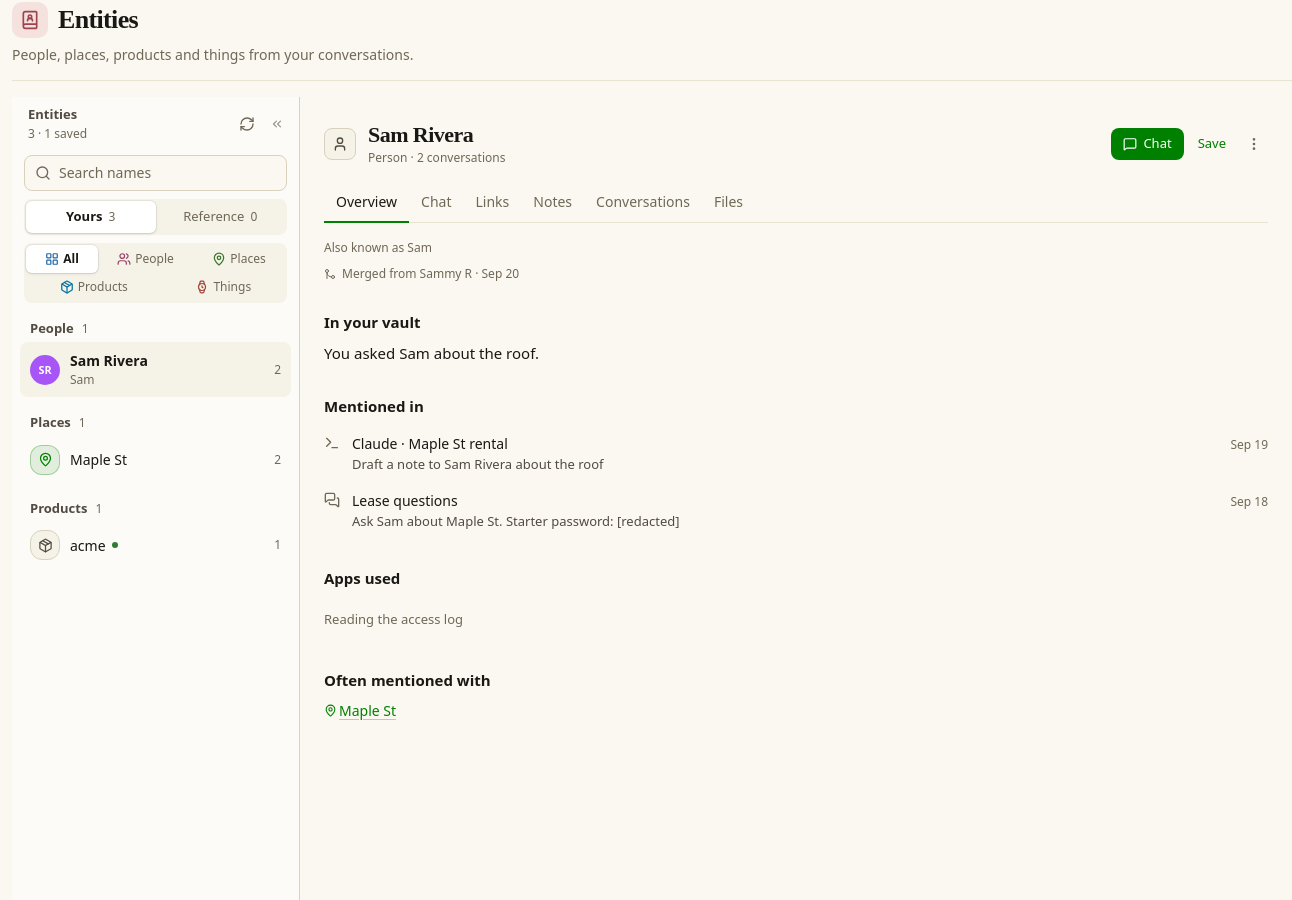
Test: entity detail › shows what was merged into it, and renames with the old name kept
expect the list with test id "entity-merged-from" shows "Merged from Sammy R": met, box [324,265,519,282]
Step 1. Click the button named "More entity actions" → (1254, 144), box [1240,130,1268,158]
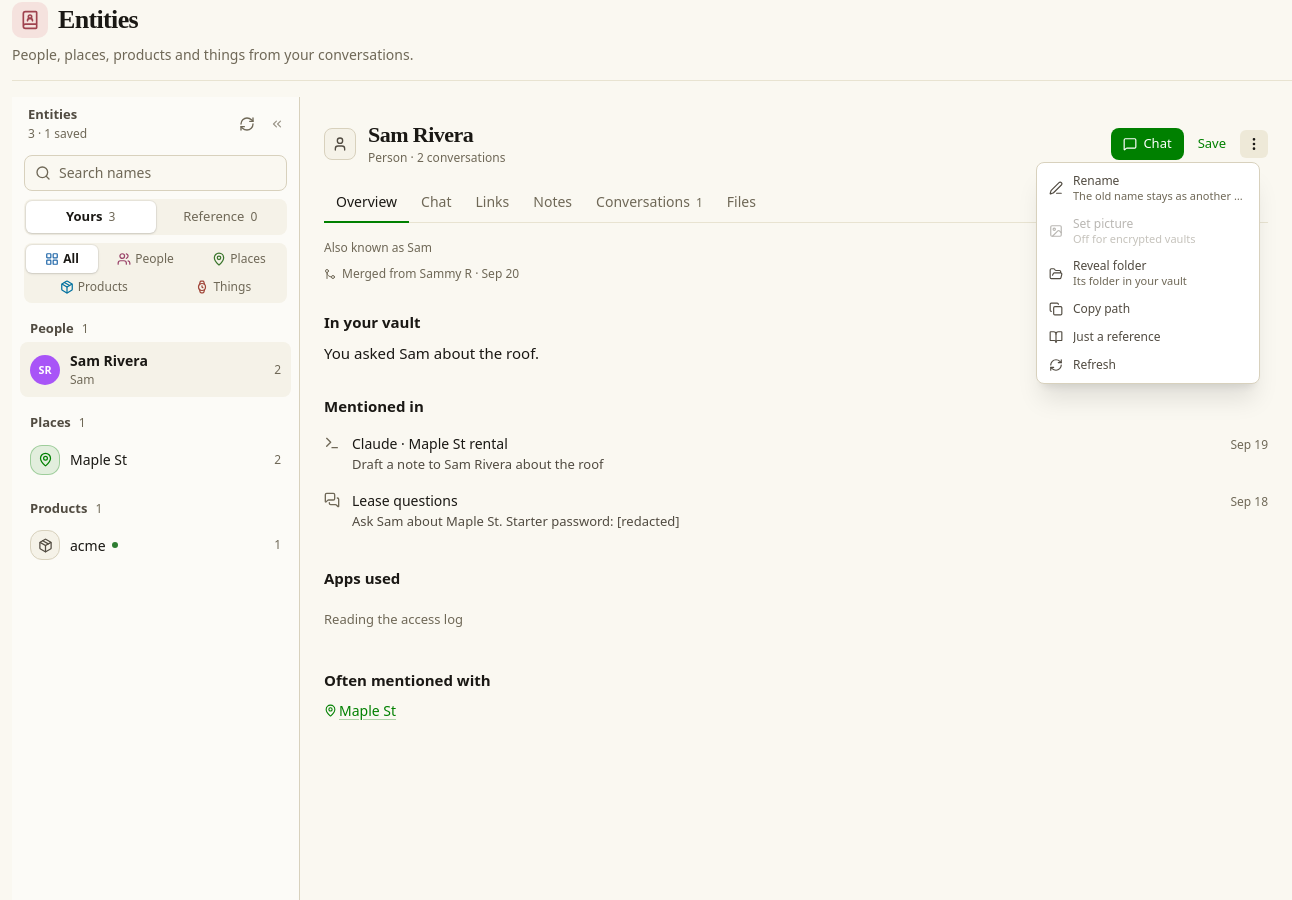
Step 2. Click the text "Rename" → (1096, 180), box [1073,172,1119,189]
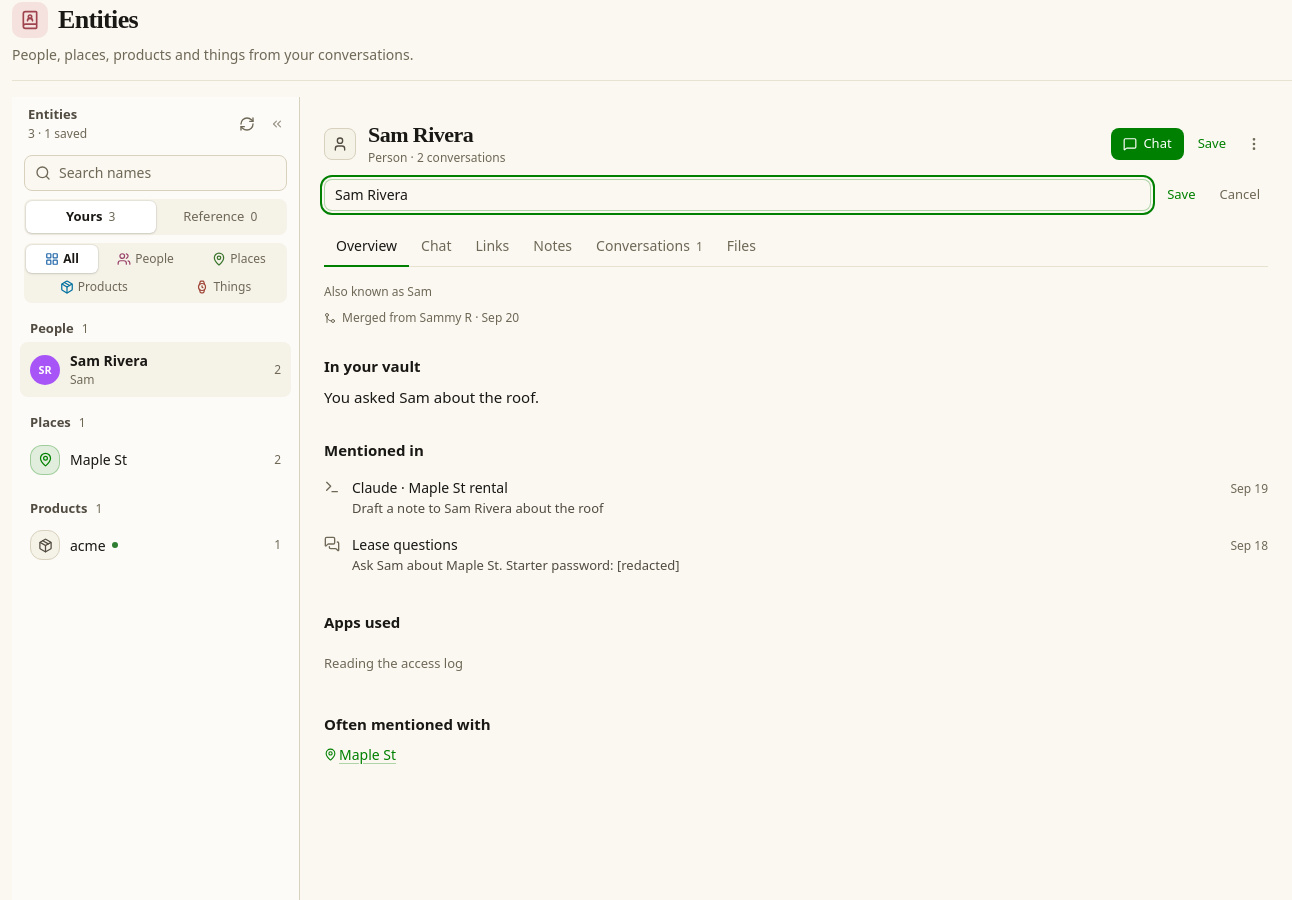
Step 3. Replace the text in the field named "Name" with "samuel rivera" → (738, 195), box [324,179,1151,211]
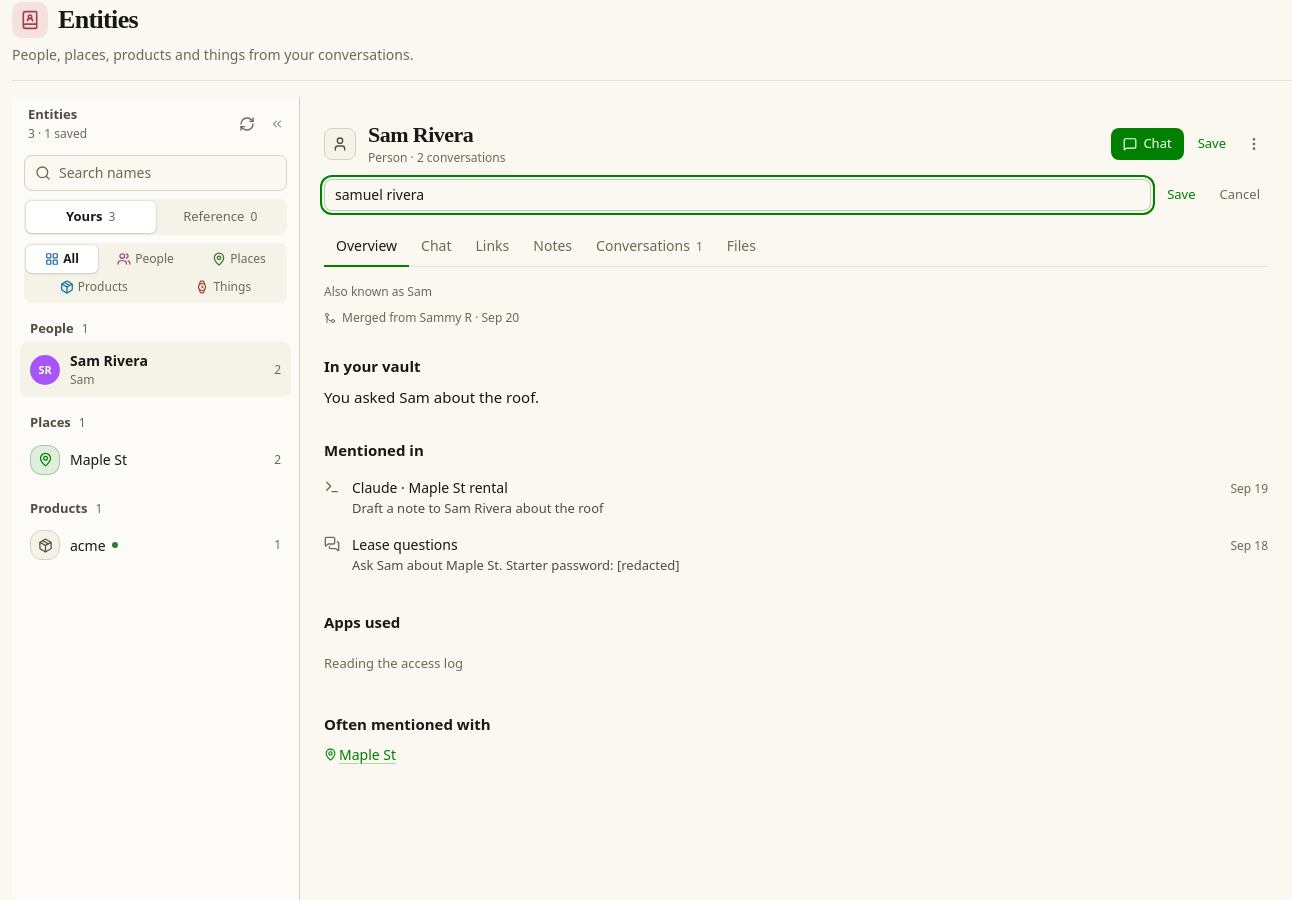
Step 4. Submit the form with test id "entity-rename-form", box [324,179,1268,211]
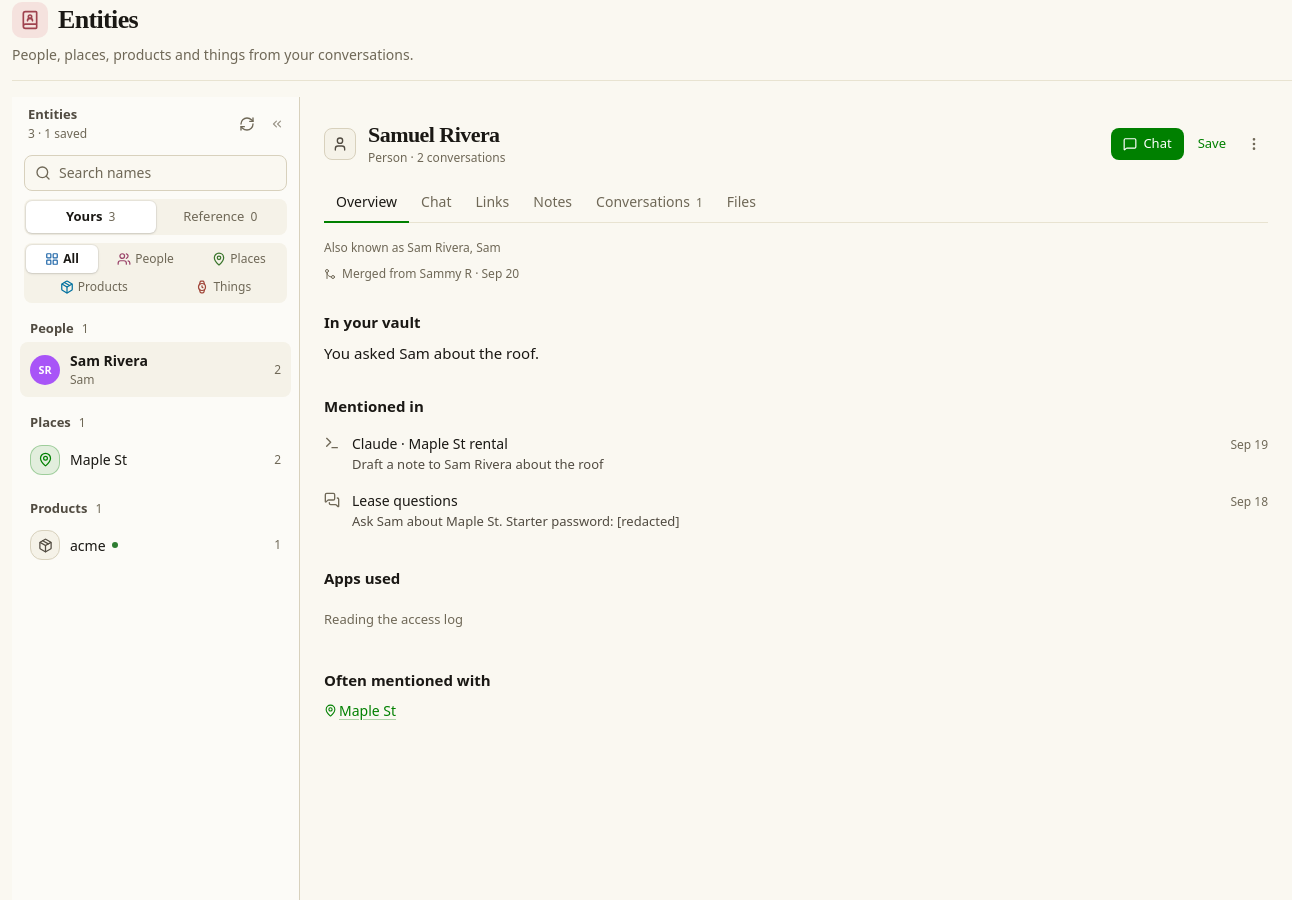
expect the heading "Samuel Rivera" is shown: met, box [368,122,500,147]
